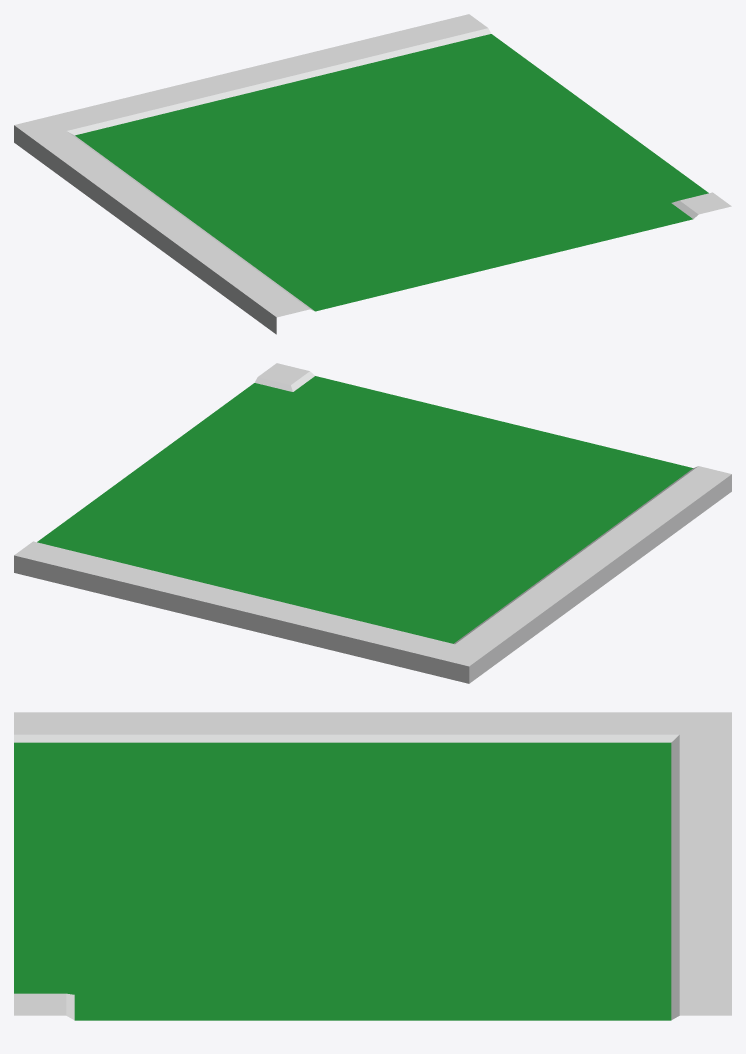
Rendered from GrassBed_1_A_9.fbx.
The picture shows the model from 3 angles, top to bottom: view 1: azimuth 30°, elevation 25°; view 2: azimuth 150°, elevation 25°; view 3: azimuth 270°, elevation 25°; orthographic projection. The views are drawn at different scales.
Visible parts, largest first — view 1: GrassBed_1_A_9; view 2: GrassBed_1_A_9; view 3: GrassBed_1_A_9.
Boxes of the visible parts, left/top/right/bottom form: GrassBed_1_A_9: left=14, top=14, right=731, bottom=334; GrassBed_1_A_9: left=14, top=363, right=731, bottom=683; GrassBed_1_A_9: left=14, top=712, right=731, bottom=1020.
Size of the model in its own units: 200 by 7.32 by 200.
